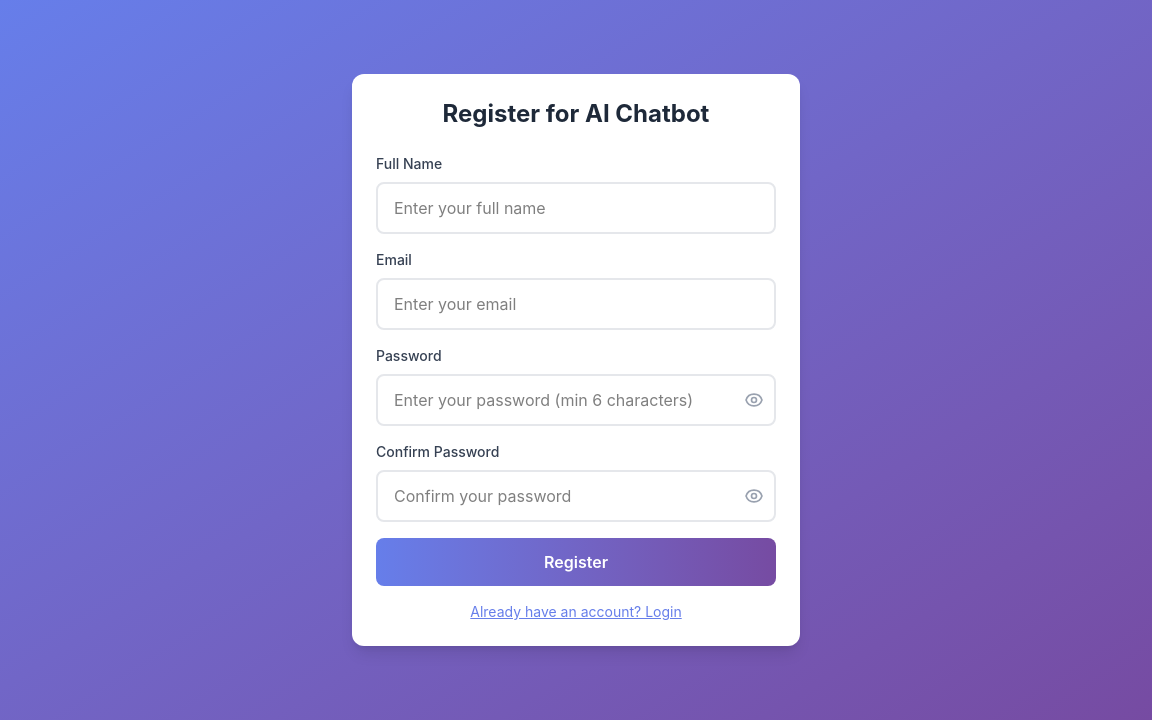
Test: Register Component › validates minimum password length
The width and height of the screenshot is (1152, 720).
// Fill form with short password
Step 1. Type "Test User" into the field labelled "Full Name" → (576, 208), box [376,182,776,234]
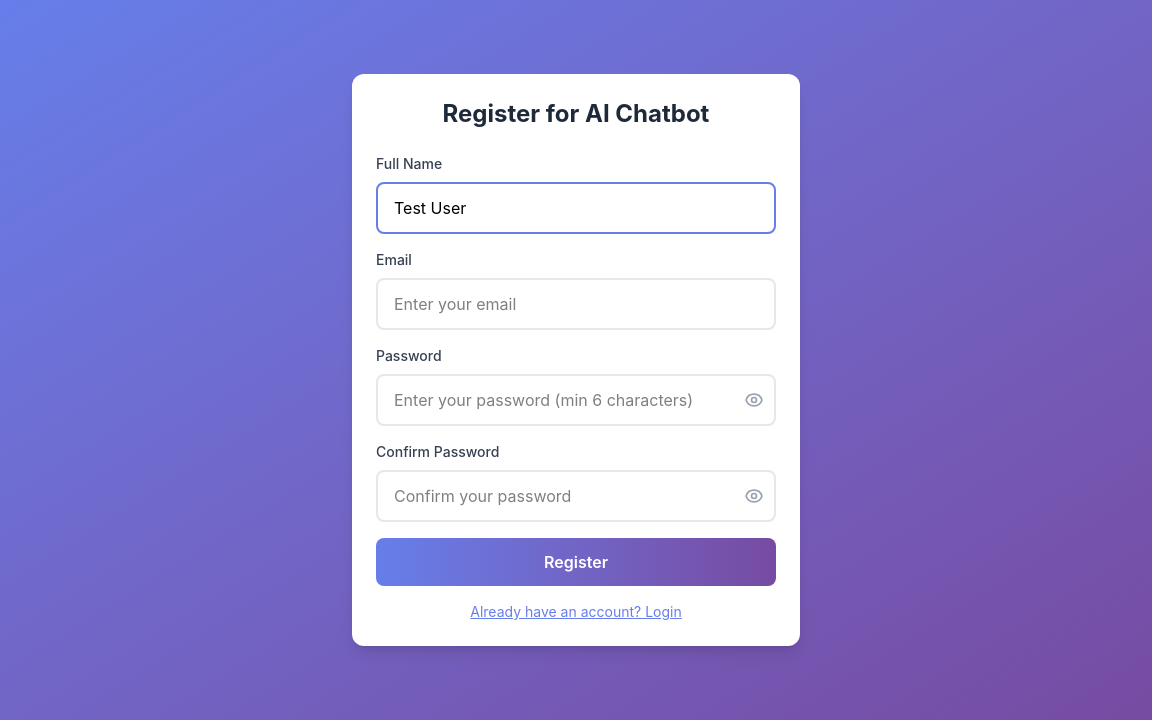
Step 2. Type "test@example.com" into the field labelled "Email" → (576, 304), box [376,278,776,330]
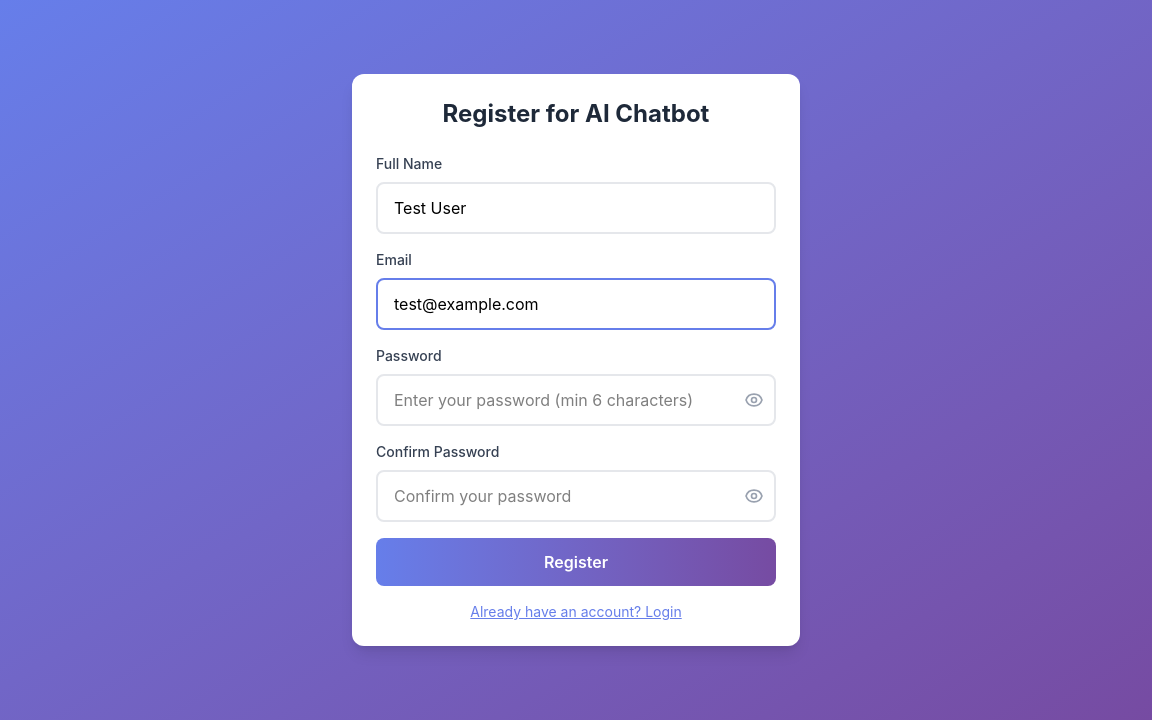
Step 3. Type "123" into the password field labelled "Password" → (576, 400), box [376,374,776,426]
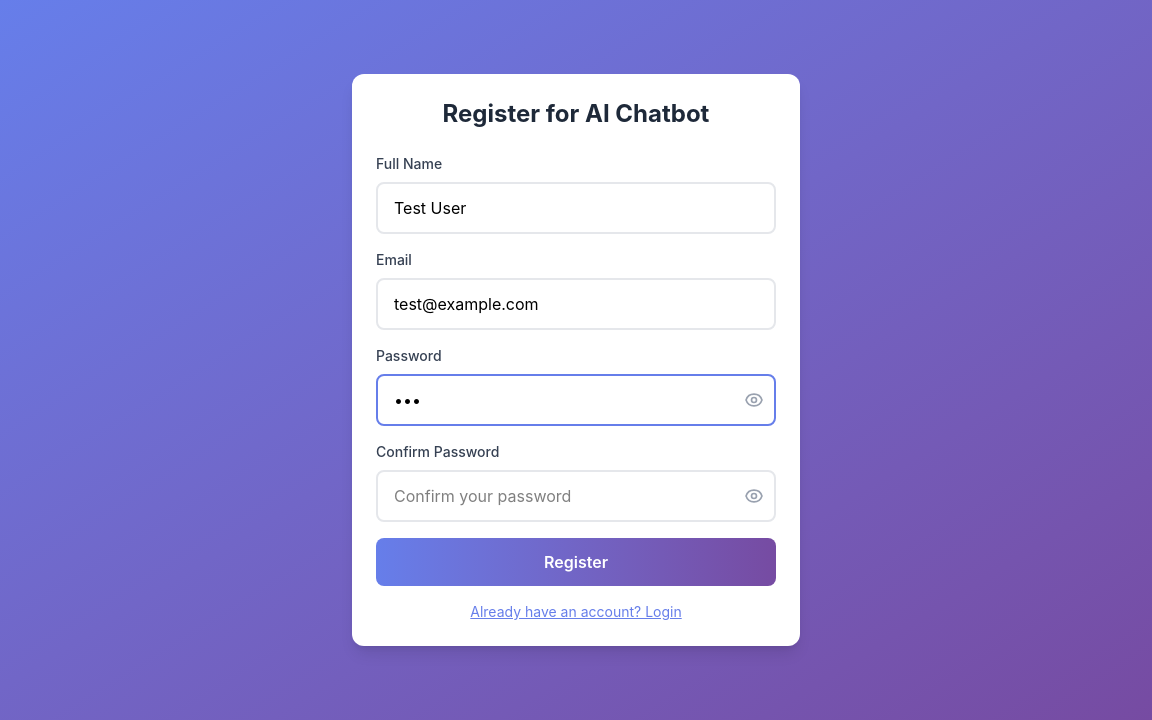
Step 4. Type "123" into the password field labelled "Confirm Password" → (576, 496), box [376,470,776,522]
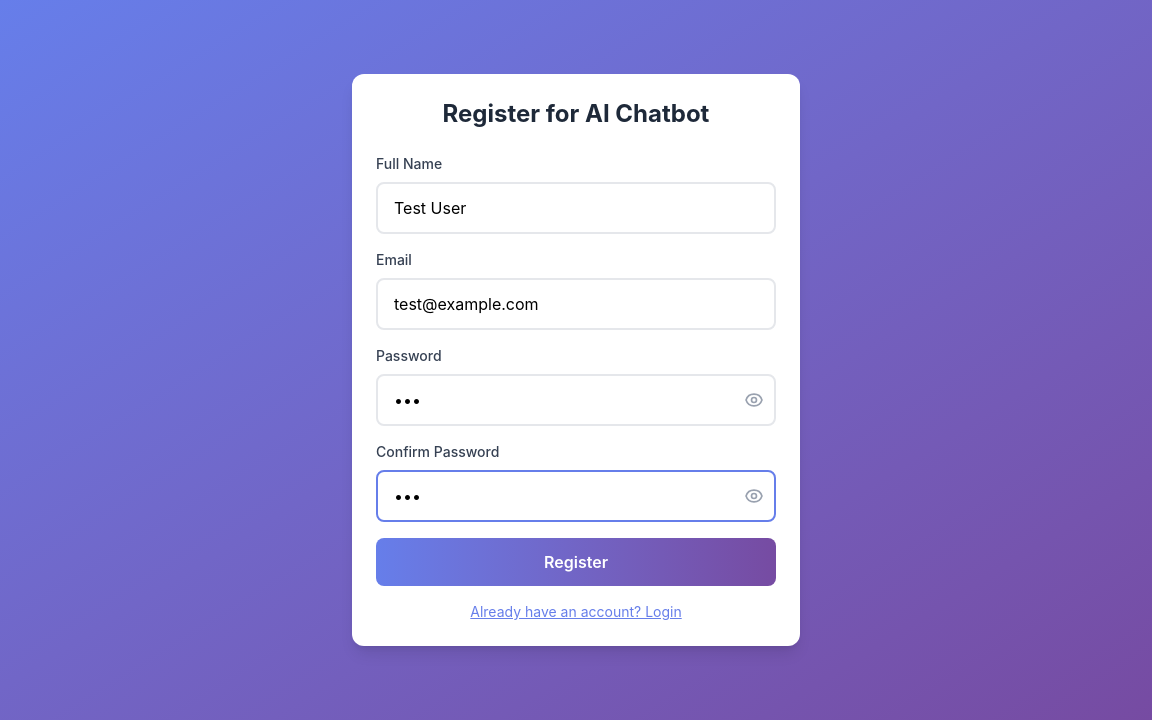
// Submit form
Step 5. Click the button "Register" → click(576, 562), box [376,538,776,586]
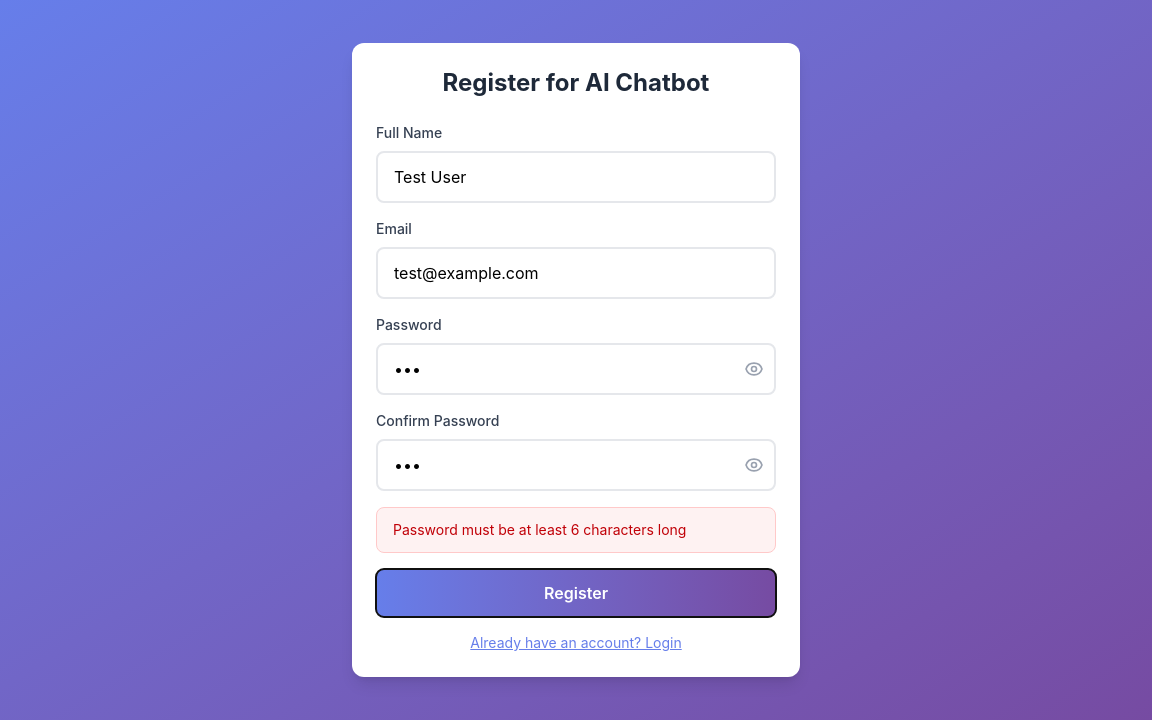
Expected: the text "Password must be at least 6 characters long" is shown, [376,507,776,553]
